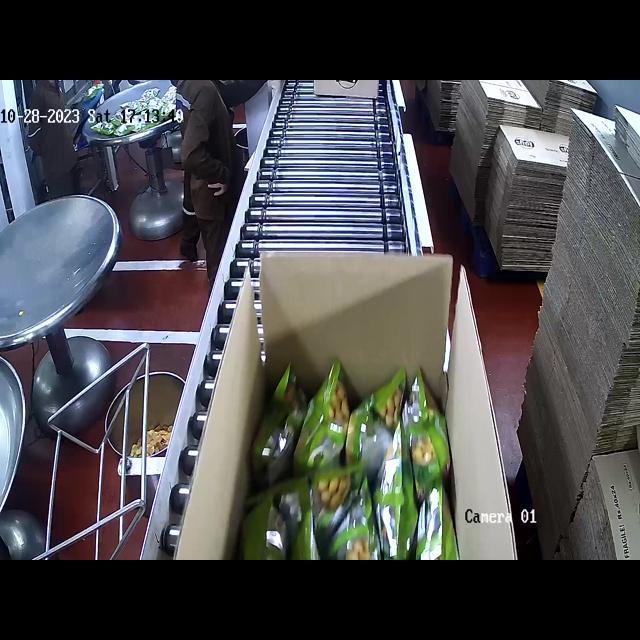yogurt: (239, 359, 458, 558)
